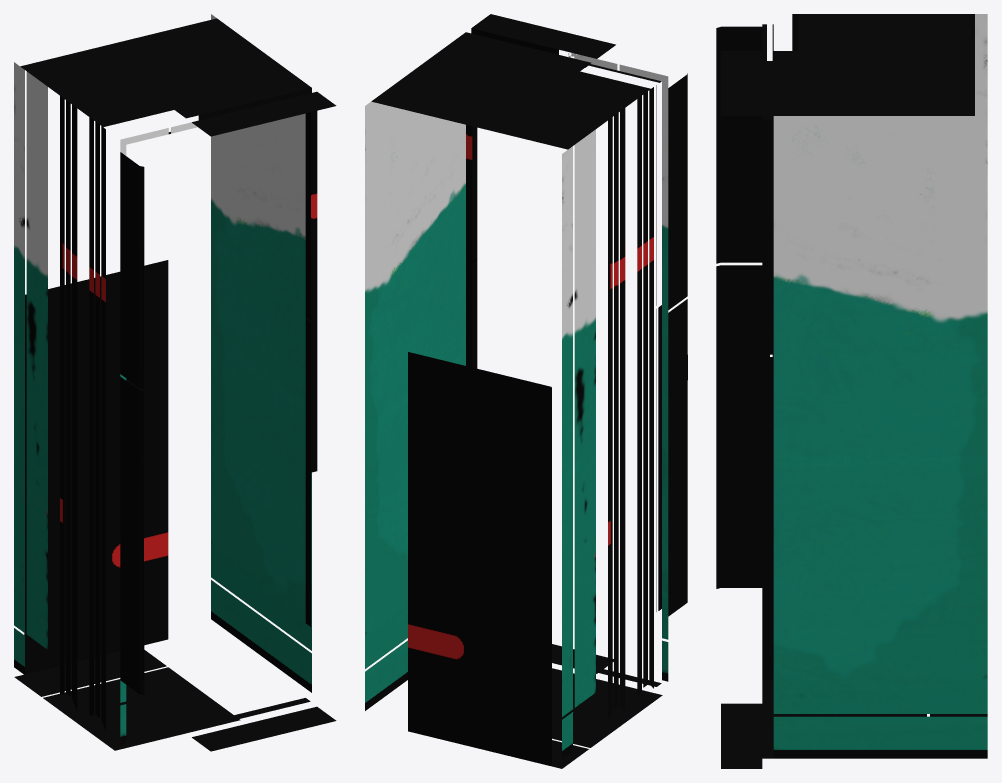
Rendered from fridge.obj.
The picture shows the model from 3 angles, left to right: view 1: azimuth 30°, elevation 25°; view 2: azimuth 150°, elevation 25°; view 3: azimuth 270°, elevation 25°; orthographic projection. The views are drawn at different scales.
Parts seen in each view (by area): view 1: Cube; view 2: Cube; view 3: Cube.
Boxes of the visible parts, x1,y1,x2,y2 form: Cube: (14, 14, 336, 751); Cube: (365, 14, 687, 768); Cube: (716, 14, 987, 768).
Bounding box in the file's own units: 0.6 × 1.79 × 0.6739.
Materials: 1 (1 with a texture image).
